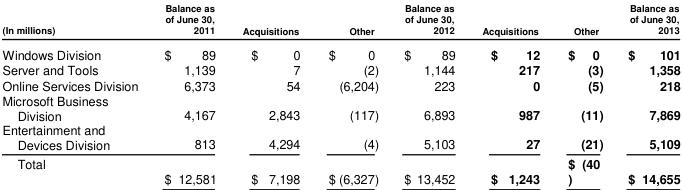table: (1, 1, 679, 186)
table column: (1, 1, 150, 186), (228, 1, 313, 186), (468, 1, 553, 186), (150, 1, 228, 186), (390, 1, 468, 186), (313, 1, 390, 186), (615, 1, 679, 186), (553, 1, 615, 186)
table column header: (1, 1, 679, 41)
table row: (1, 1, 679, 41), (1, 153, 679, 186), (1, 121, 679, 153), (1, 92, 679, 121), (1, 41, 679, 61), (1, 61, 679, 77), (1, 77, 679, 92)
